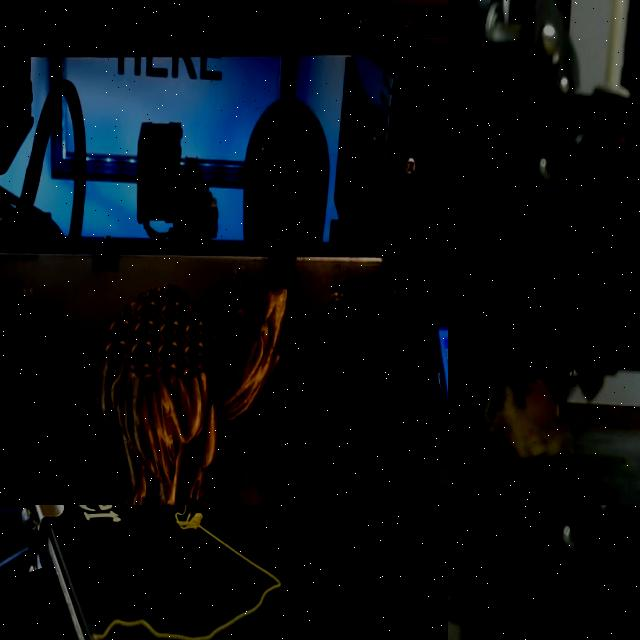spaghetti: (84, 505, 287, 640), (482, 363, 574, 461)
